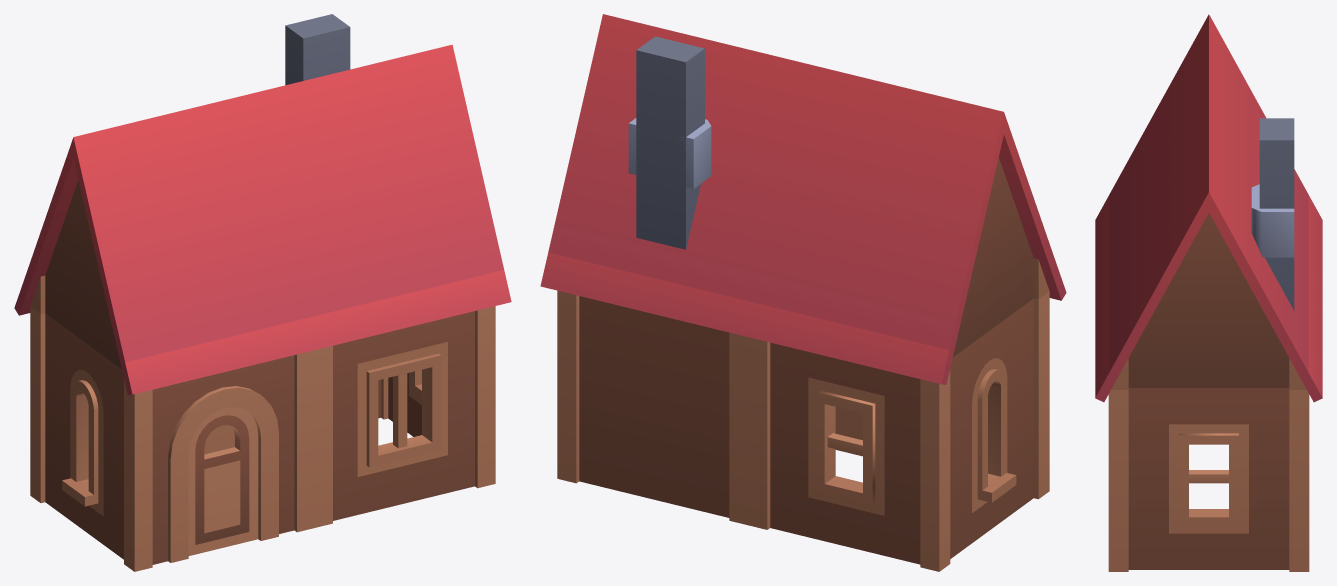
Rendered from cottage_a.glb.
3 views of the same model, side by side, from view 1: azimuth 30°, elevation 25°; view 2: azimuth 150°, elevation 25°; view 3: azimuth 270°, elevation 25° (orthographic). The views are drawn at different scales.
Parts seen in each view (by area): view 1: cottage_a_body; view 2: cottage_a_body; view 3: cottage_a_body.
Boxes of the visible parts, box(x1,y1,x2,y2) form: cottage_a_body: box(14, 14, 511, 571); cottage_a_body: box(540, 14, 1066, 571); cottage_a_body: box(1095, 14, 1322, 571).
Size of the model in its own units: 2.1 by 2.2 by 1.13.
1 material, 1 textured.
